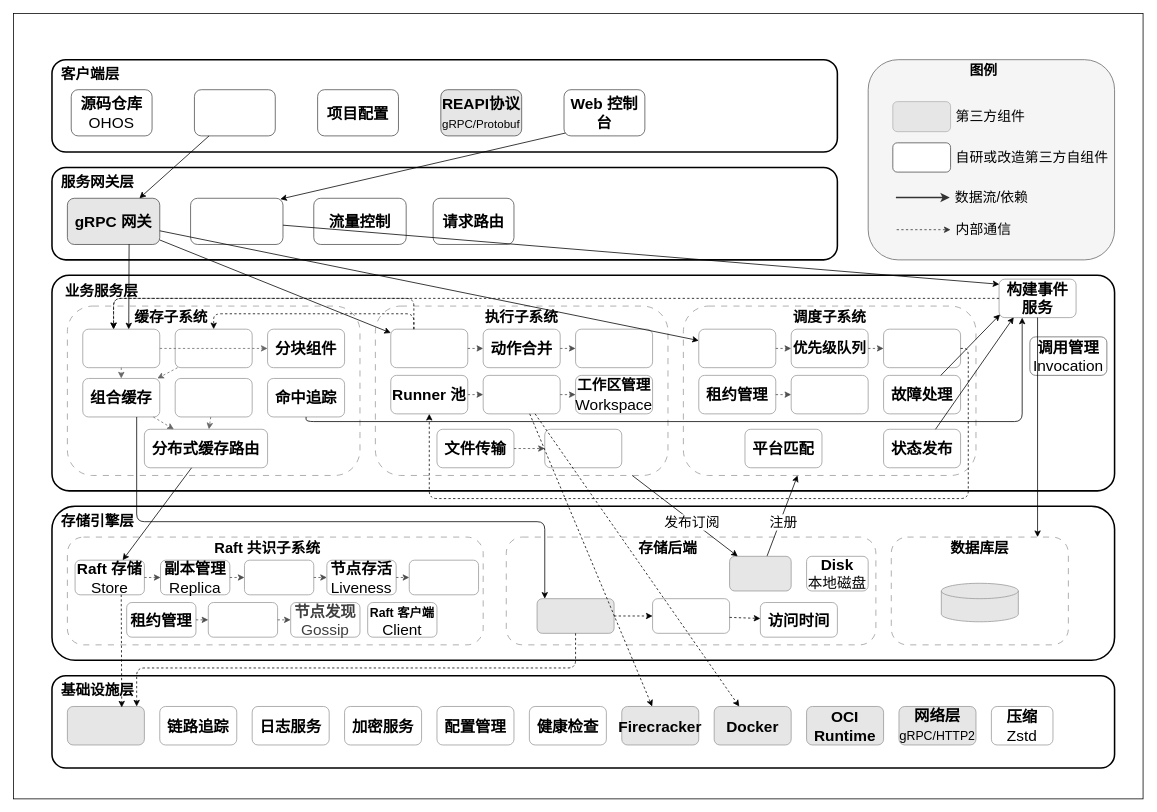
This 1157x812 diagram has some shape labels left out. Here are the shapes that lost their labels. From the top down, the box of each, then its label:
(194, 89, 275, 136): 构建客户端 Ninja
(190, 198, 283, 244): HTTP 网关
(82, 328, 160, 368): CAS 服务
(174, 328, 252, 368): AC 服务
(390, 328, 468, 368): 执行服务
(575, 328, 653, 368): 对冲执行
(698, 328, 776, 368): 调度服务
(883, 328, 961, 368): 任务路由
(174, 378, 252, 417): 缓存迁移
(482, 375, 560, 414): 容器隔离 Docker/FC
(790, 375, 868, 414): 资源估算
(544, 429, 622, 468): 快照管理
(244, 559, 314, 595): 范围管理 Range
(408, 559, 479, 595): 事务协调
(729, 556, 791, 591): Redis 缓存
(208, 602, 278, 637): 放置驱动
(536, 598, 614, 633): Pebble 引擎
(652, 598, 730, 633): 驱逐策略 LRU Eviction
(941, 583, 1018, 622): MySQL
(67, 706, 144, 745): 监控指标 Prometheus
